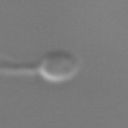normal: (1, 57, 42, 82)
